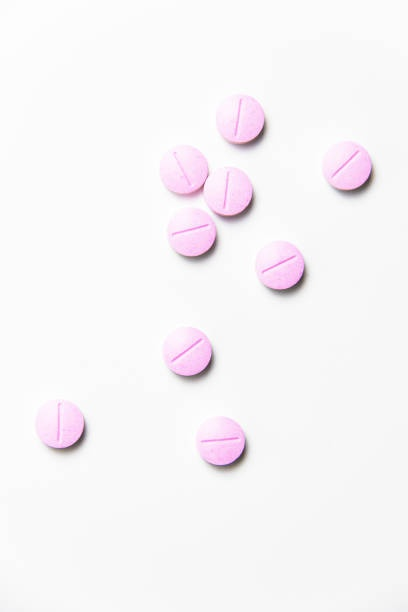pills: (255, 239, 298, 295), (324, 143, 367, 199), (220, 91, 263, 147), (165, 143, 208, 199), (170, 202, 213, 258), (209, 163, 252, 219), (169, 322, 212, 378), (199, 413, 242, 469), (40, 398, 83, 454)
